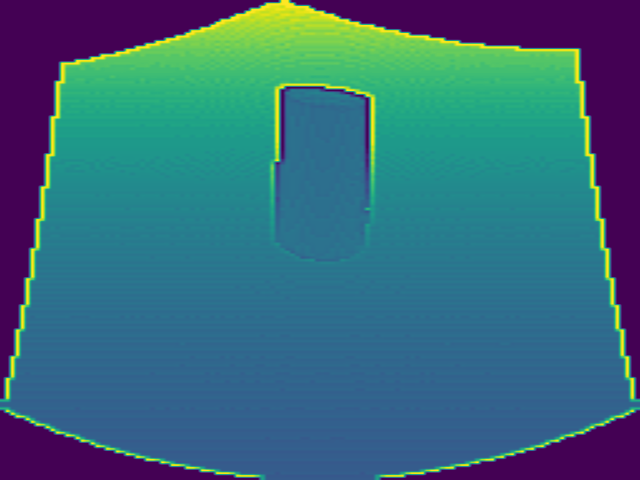cylinder: (269, 83, 376, 262)
